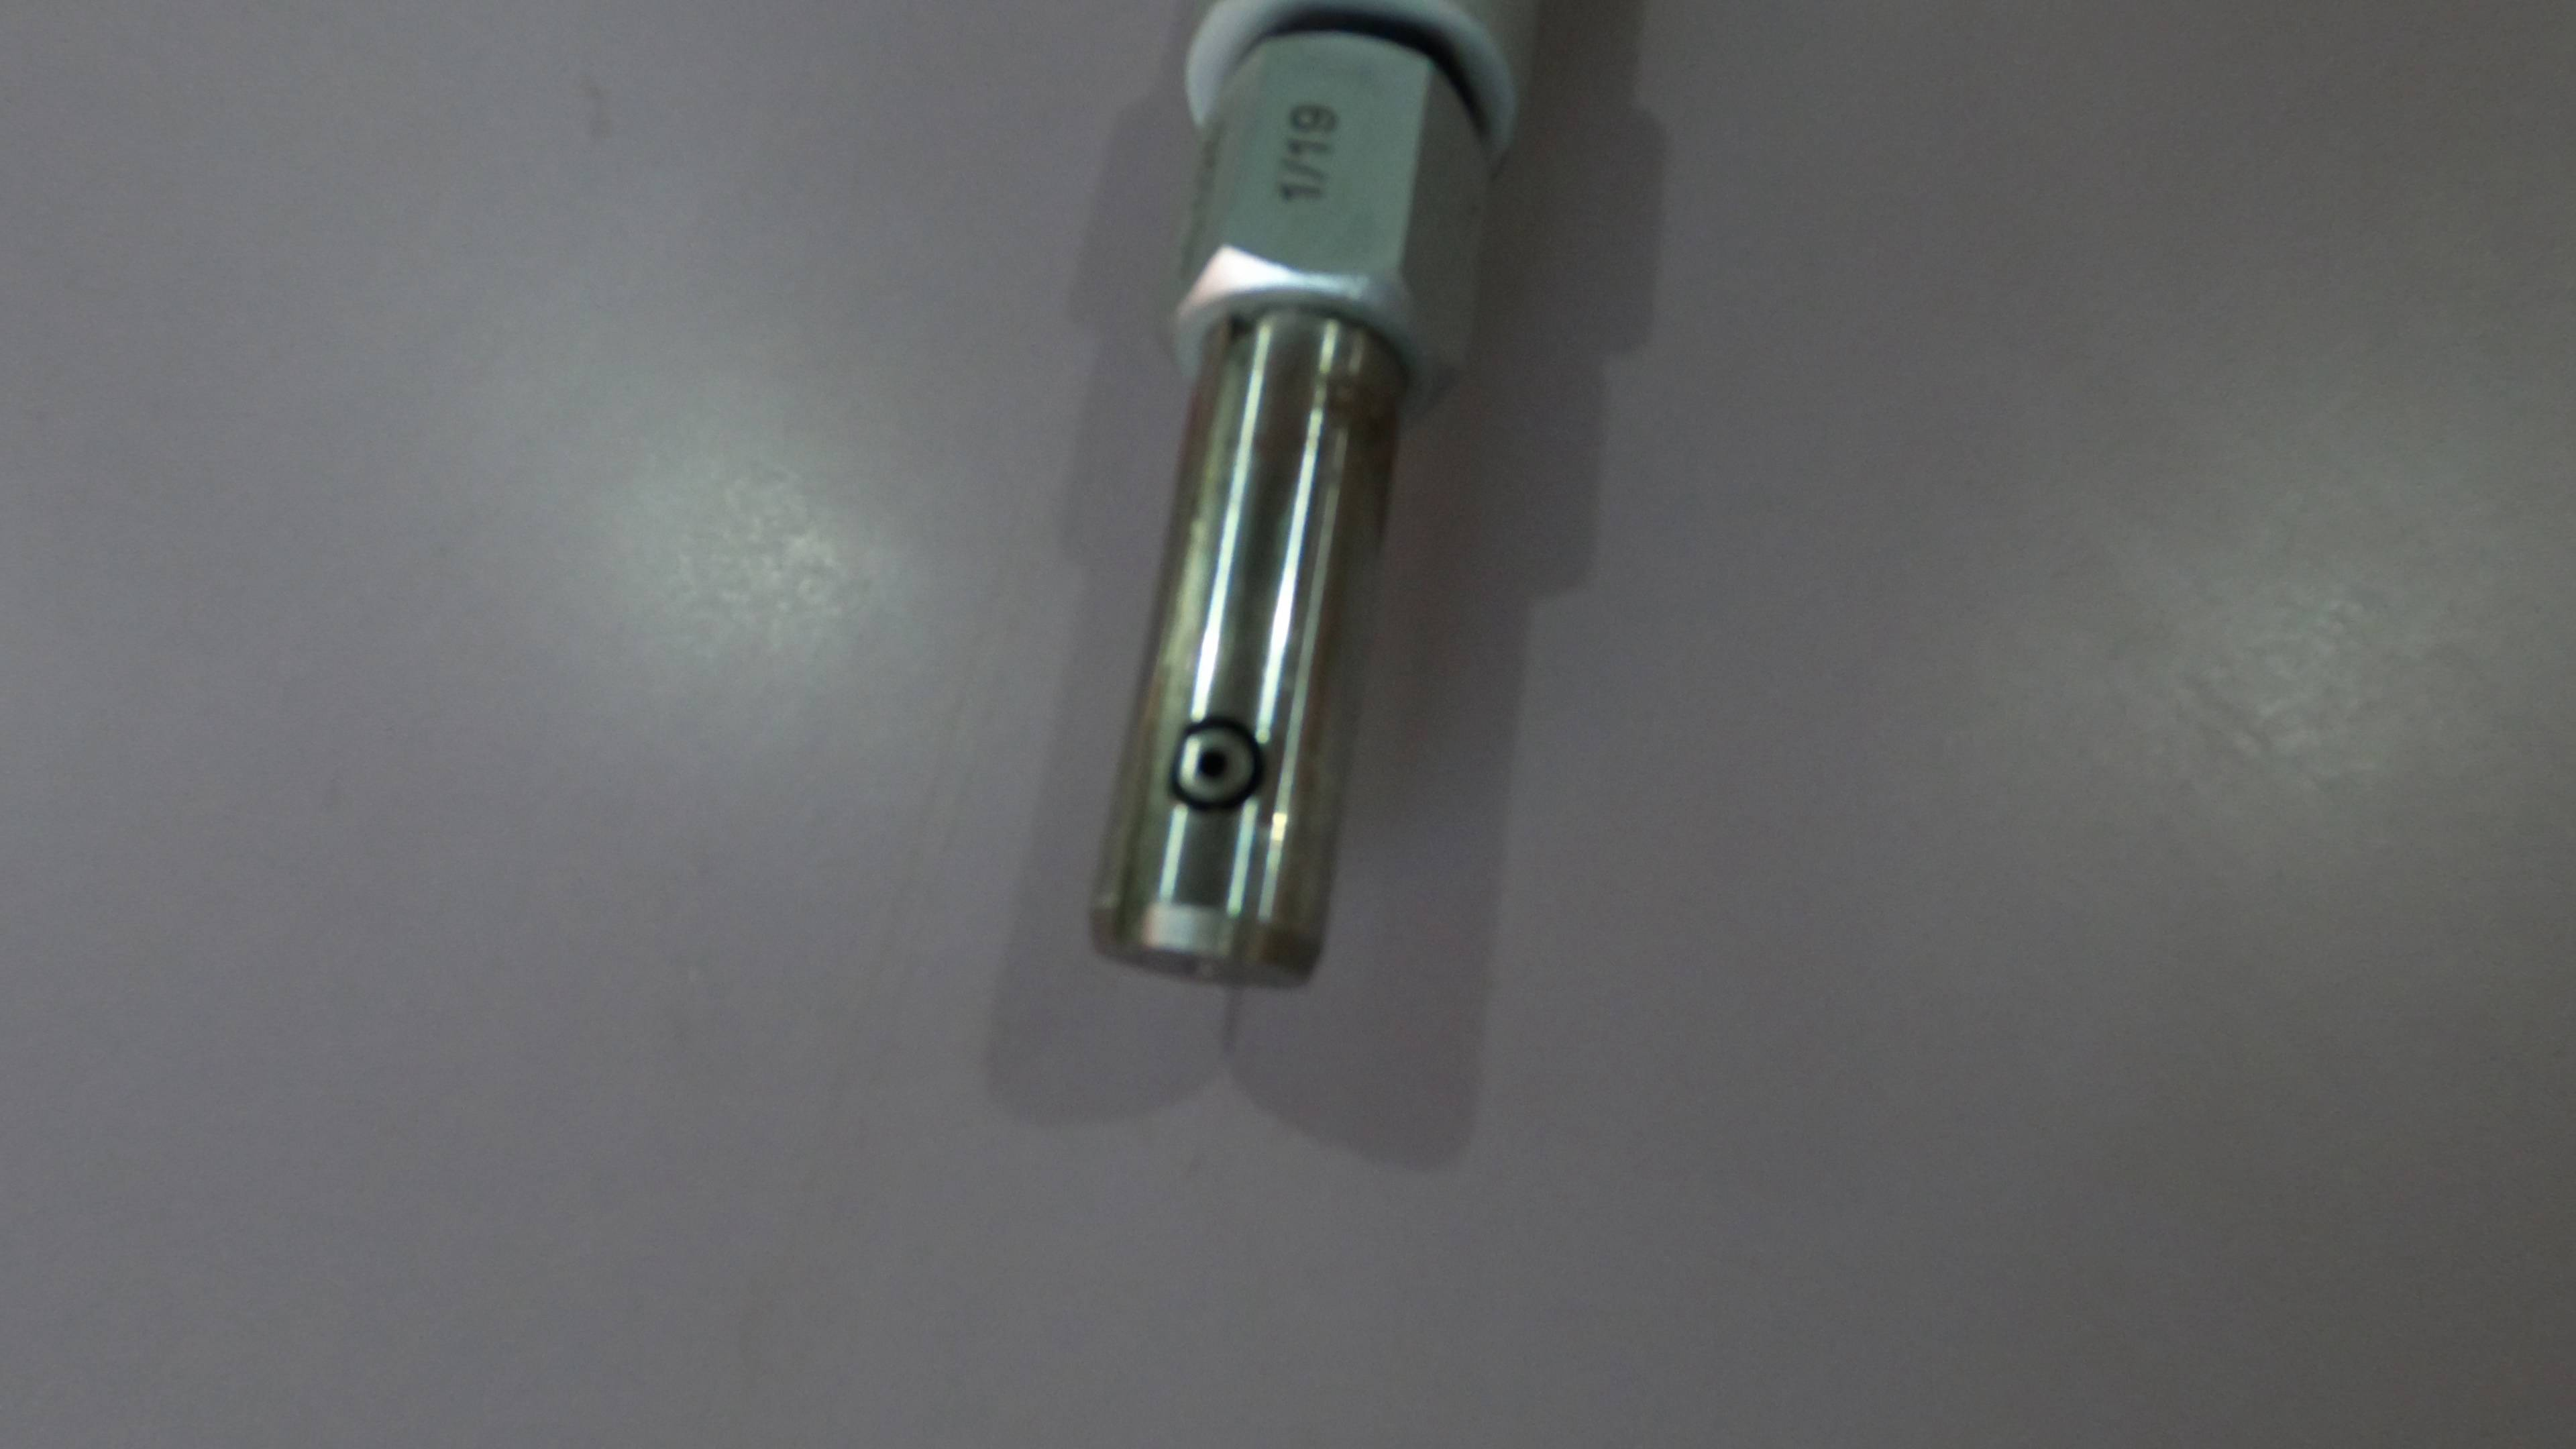air_gauge: (1083, 7, 1536, 1001)
